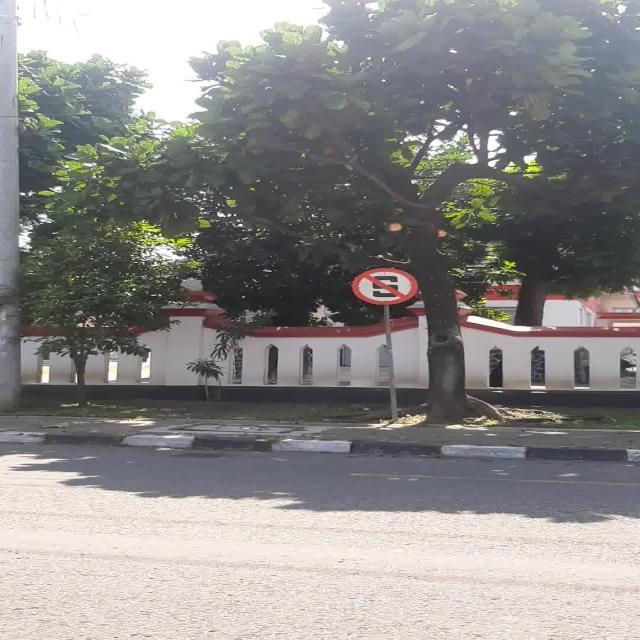Dilarang Berhenti: (352, 268, 418, 305)
